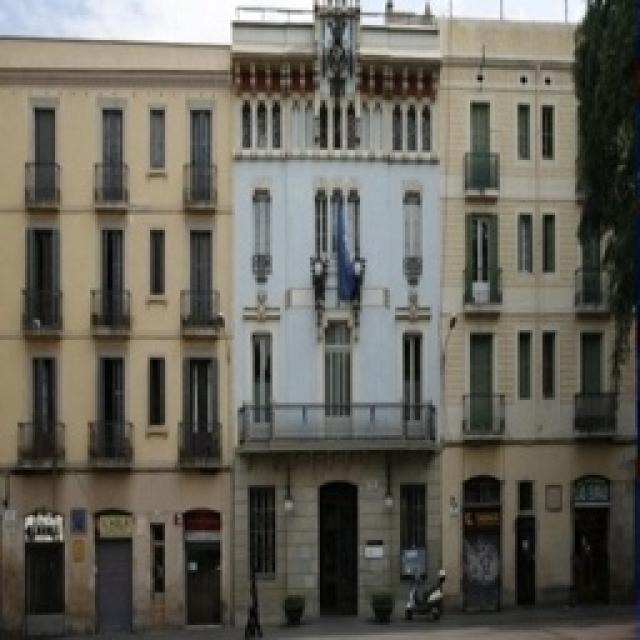building: (235, 0, 640, 610), (0, 40, 230, 640)
